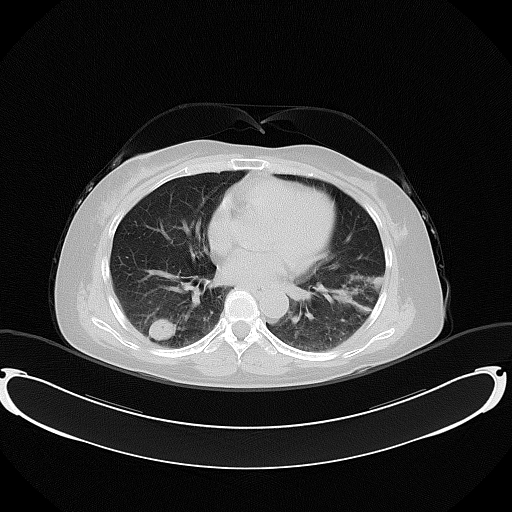nodule: (147, 317, 177, 343)
